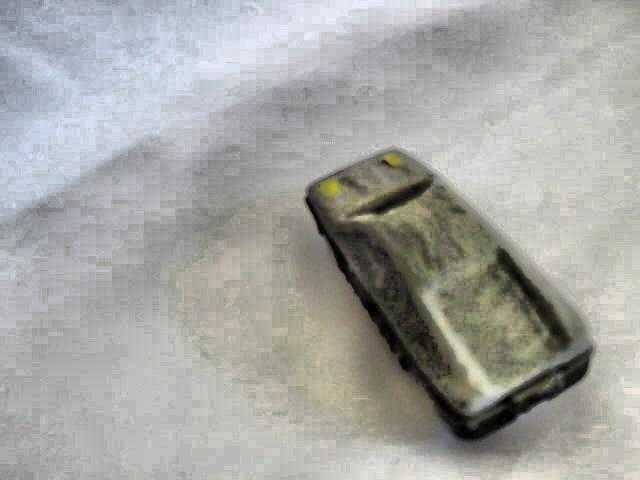normal_car: (300, 147, 594, 442)
